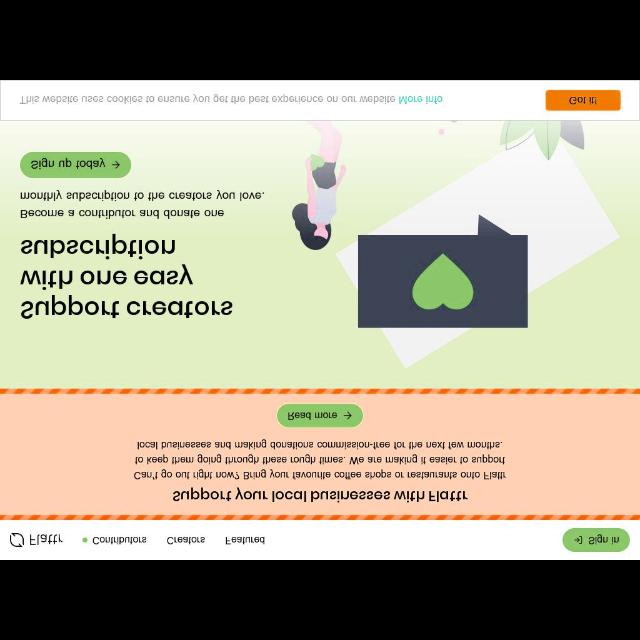icon: (9, 530, 25, 548), (343, 411, 353, 421), (112, 160, 121, 170), (574, 535, 582, 543)
image: (284, 120, 620, 368)
text: (18, 234, 234, 320), (133, 440, 505, 482), (18, 192, 266, 220), (19, 93, 444, 105), (172, 490, 468, 502), (32, 156, 108, 170), (92, 534, 146, 546), (286, 410, 338, 422), (223, 534, 267, 546), (28, 532, 64, 546), (165, 535, 205, 545), (588, 534, 620, 546), (568, 96, 600, 106)
textbutton: (20, 154, 130, 178), (278, 404, 362, 428), (562, 529, 630, 551), (547, 91, 619, 111)
toolbar: (1, 520, 639, 558)
